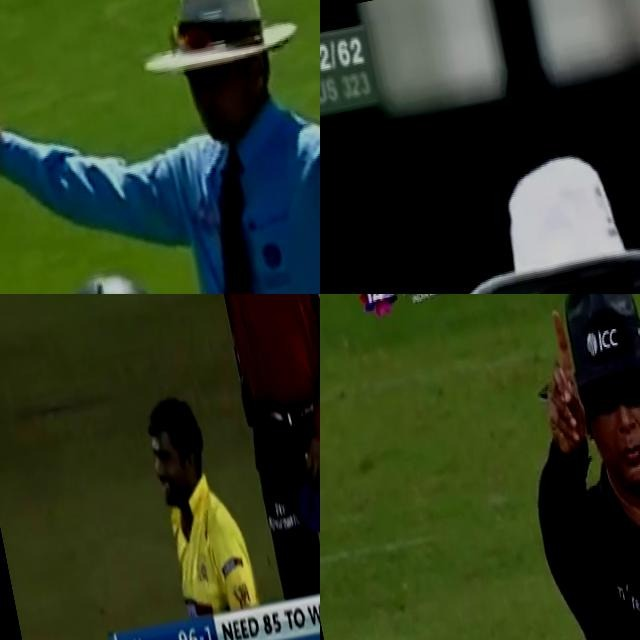No_Action: (366, 107, 640, 294)
Out: (470, 294, 640, 640), (146, 294, 320, 607)
Wide: (0, 0, 320, 294)
